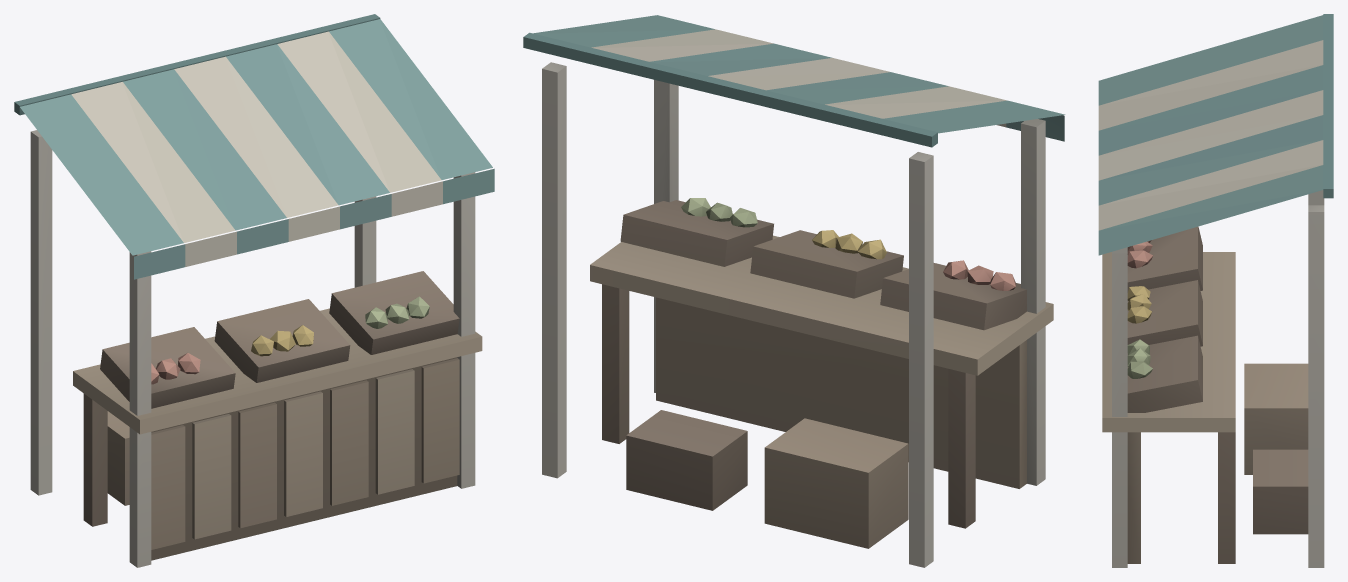
File: stall.lod1.glb
3 views of the same model, side by side, from view 1: azimuth 30°, elevation 25°; view 2: azimuth 150°, elevation 25°; view 3: azimuth 270°, elevation 25° (orthographic). The views are drawn at different scales.
Size of the model in its own units: 2.36 by 2.42 by 1.35.
